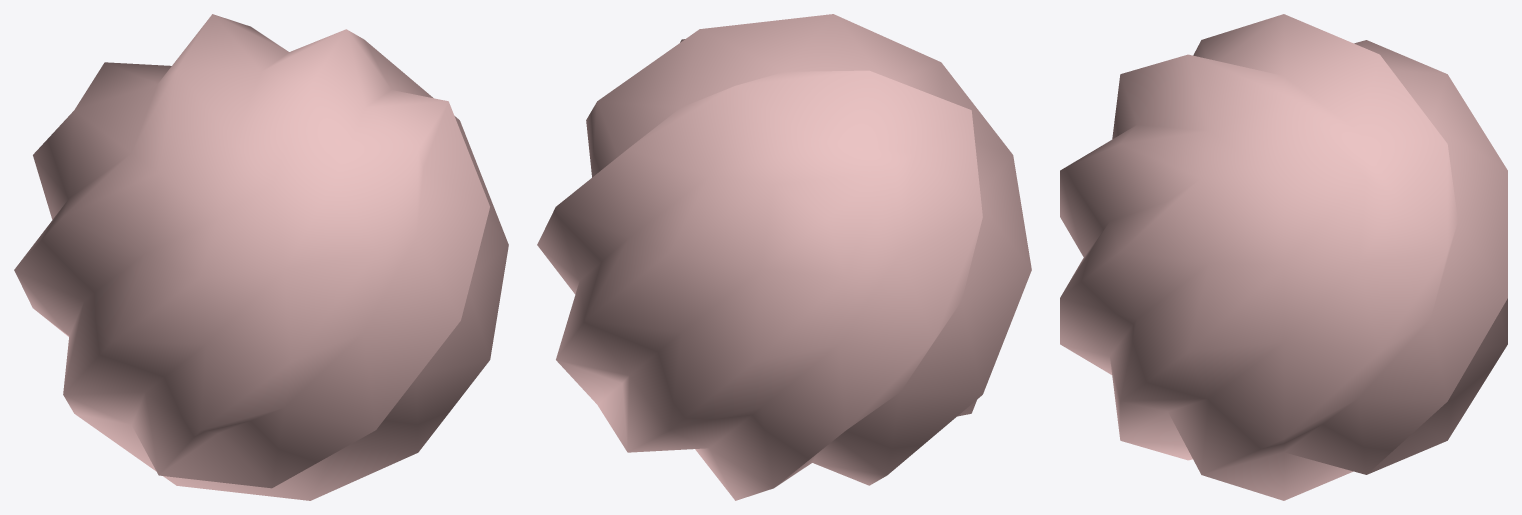
Rendered from SM_Bush.fbx.
3 renders of one model, left to right at view 1: azimuth 30°, elevation 25°; view 2: azimuth 150°, elevation 25°; view 3: azimuth 270°, elevation 25°, orthographic. The views are drawn at different scales.
Parts seen in each view (by area): view 1: pCube14; view 2: pCube14; view 3: pCube14.
Boxes of the visible parts, x1,y1,x2,y2 form: pCube14: (14,14,508,500); pCube14: (537,14,1031,500); pCube14: (1060,14,1507,500).
Bounding box in the file's own units: 123 × 123 × 123.
